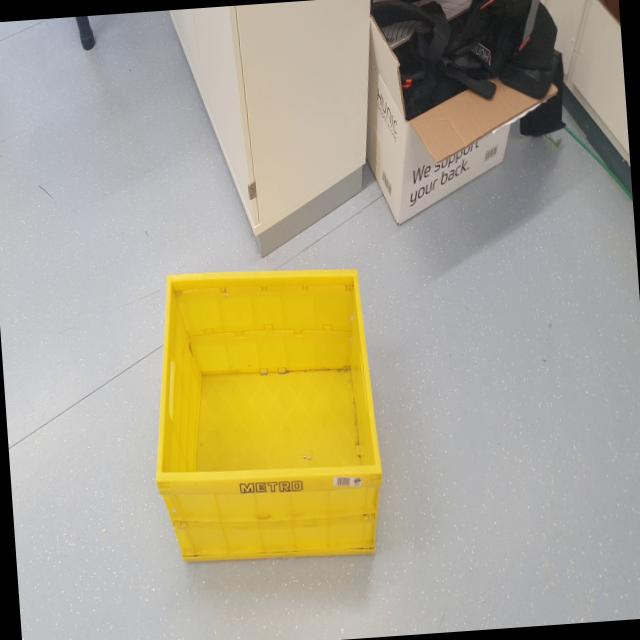box: (136, 253, 394, 582)
